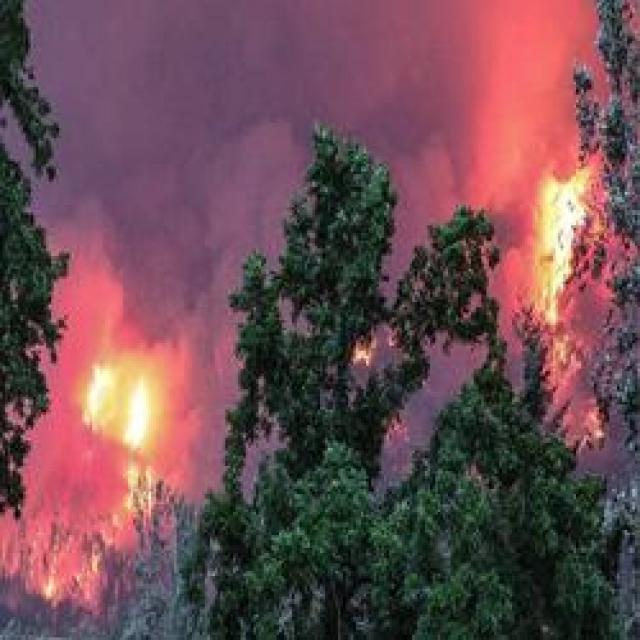fire: (544, 181, 584, 318), (90, 366, 150, 442)
smoke: (74, 206, 224, 343), (460, 7, 536, 207)
